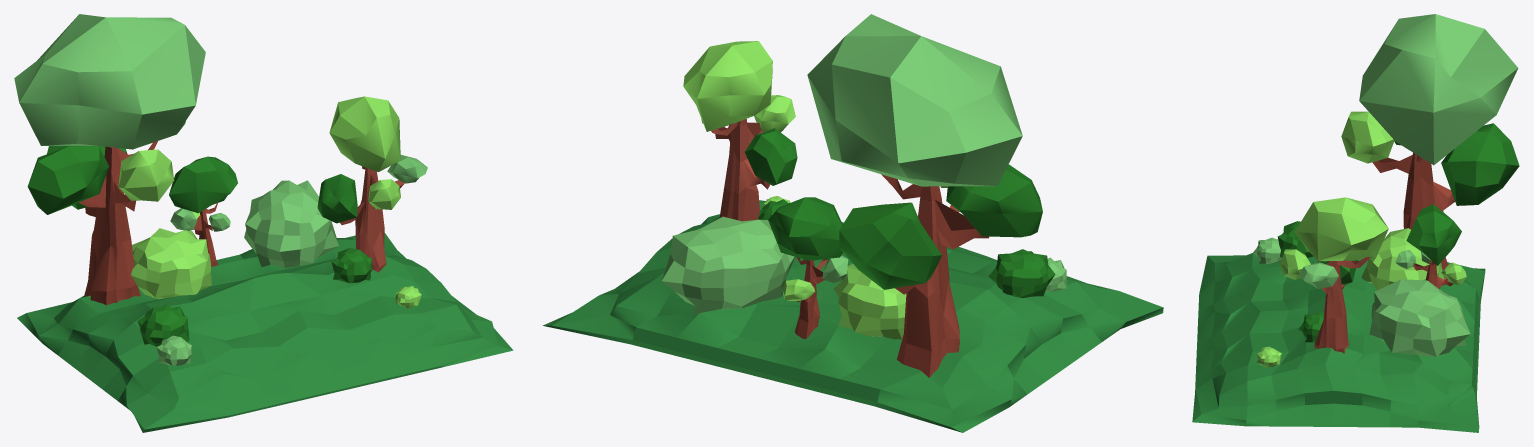
The model's file is Grass Stage Coloured.fbx.
The picture shows the model from 3 angles, left to right: view 1: azimuth 30°, elevation 25°; view 2: azimuth 150°, elevation 25°; view 3: azimuth 270°, elevation 25°; orthographic projection. The views are drawn at different scales.
Parts seen in each view (by area): view 1: pCube2, pCube5, pCube17, pCube4, pCube14, pCube11, pCube6, pCube19, pCube7, pCube9, pCube12, pCube23 (+5 smaller); view 2: pCube2, pCube5, pCube17, pCube4, pCube8, pCube11, pCube6, pCube19, pCube14, pCube9, pCube23, pCube12 (+3 smaller); view 3: pCube2, pCube5, pCube17, pCube11, pCube8, pCube4, pCube14, pCube19, pCube7, pCube9, pCube10, pCube13 (+6 smaller).
Boxes of the visible parts, bbox=[...] form: pCube2: bbox=[17, 233, 513, 432]; pCube5: bbox=[14, 14, 205, 149]; pCube17: bbox=[244, 180, 338, 267]; pCube4: bbox=[78, 141, 157, 305]; pCube14: bbox=[131, 228, 211, 299]; pCube11: bbox=[329, 96, 400, 171]; pCube6: bbox=[27, 146, 109, 214]; pCube19: bbox=[169, 156, 237, 213]; pCube7: bbox=[118, 149, 174, 201]; pCube9: bbox=[340, 166, 404, 272]; pCube12: bbox=[317, 174, 357, 223]; pCube23: bbox=[137, 304, 189, 346]; pCube2: bbox=[543, 200, 1163, 432]; pCube5: bbox=[807, 14, 1022, 186]; pCube17: bbox=[661, 216, 795, 314]; pCube4: bbox=[881, 174, 989, 377]; pCube8: bbox=[839, 202, 941, 289]; pCube11: bbox=[683, 41, 772, 131]; pCube6: bbox=[946, 164, 1042, 237]; pCube19: bbox=[768, 197, 843, 260]; pCube14: bbox=[833, 264, 906, 339]; pCube9: bbox=[711, 119, 770, 221]; pCube23: bbox=[988, 249, 1055, 297]; pCube12: bbox=[745, 128, 797, 185]; pCube2: bbox=[1192, 253, 1485, 432]; pCube5: bbox=[1359, 14, 1518, 165]; pCube17: bbox=[1369, 279, 1470, 356]; pCube11: bbox=[1295, 197, 1388, 261]; pCube8: bbox=[1441, 123, 1519, 205]; pCube4: bbox=[1372, 152, 1455, 278]; pCube14: bbox=[1361, 228, 1444, 290]; pCube19: bbox=[1406, 204, 1461, 265]; pCube7: bbox=[1341, 111, 1394, 163]; pCube9: bbox=[1314, 257, 1370, 353]; pCube10: bbox=[1299, 262, 1338, 289]; pCube13: bbox=[1280, 249, 1310, 279].
Bounding box in the file's own units: 20.86 × 15.72 × 16.23.
